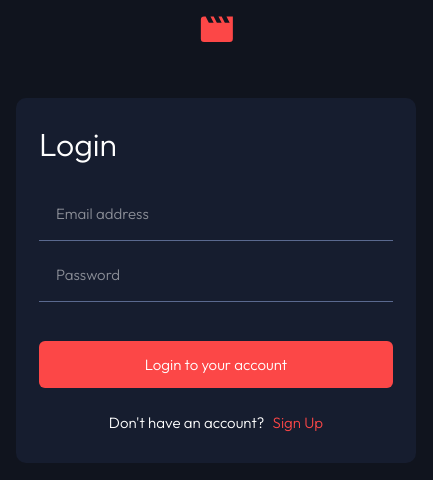
Test: user login › invalid login, email empty
Focus the field with placeholder "Email address" at [216, 214], box [39,187,393,240]
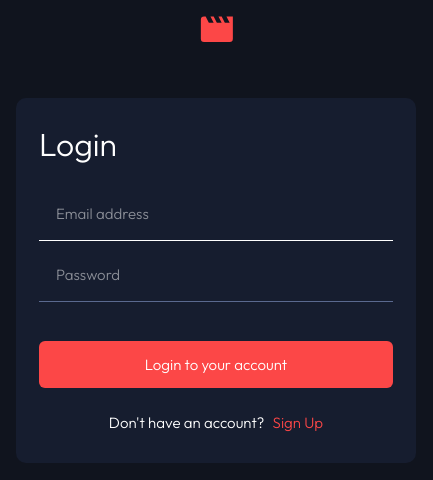
Focus the password field with placeholder "Password" at [216, 275], box [39,248,393,301]
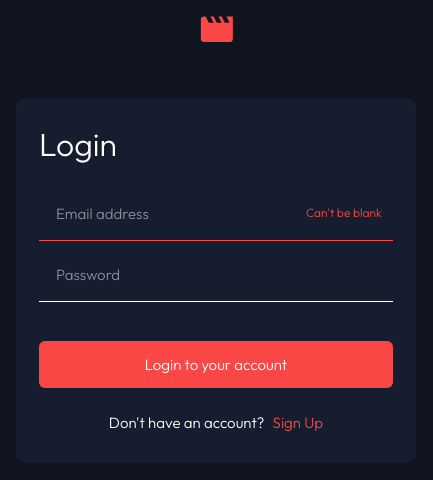
Result: the text with test id "errorMessage" reads "Can't be blank" at [306,205,382,220]
